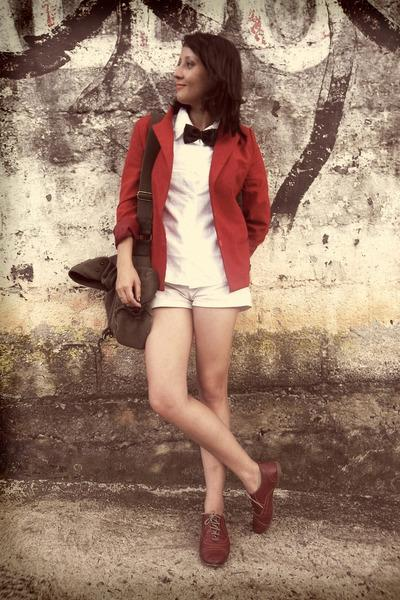bag: (68, 132, 160, 347)
jacket: (102, 92, 272, 292)
shirt: (163, 109, 226, 287)
shoe: (195, 459, 288, 569)
shorts: (154, 280, 251, 307)
